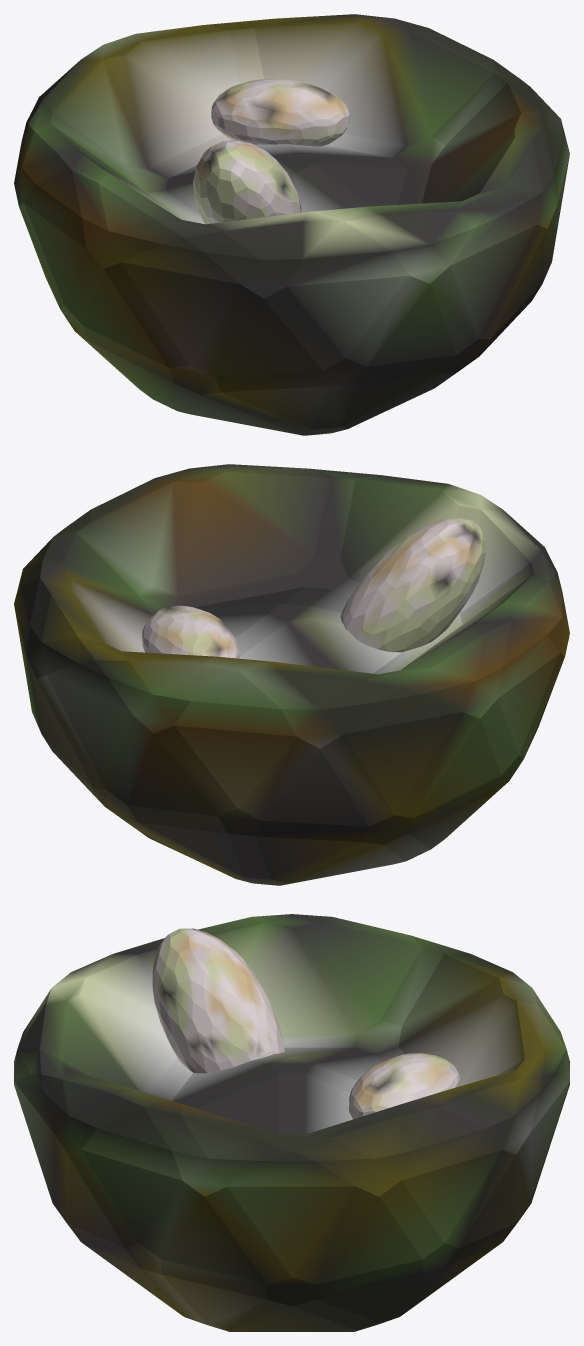
Rendered from nest.gltf.
3 views of the same model, one above another, from view 1: azimuth 30°, elevation 25°; view 2: azimuth 150°, elevation 25°; view 3: azimuth 270°, elevation 25° (orthographic).
Visible parts, largest first — view 1: Icosphere; view 2: Icosphere; view 3: Icosphere.
Boxes of the visible parts, <box> form: Icosphere: <box>14,14,569,435</box>; Icosphere: <box>14,464,569,885</box>; Icosphere: <box>14,914,569,1331</box>.
Bounding box in the file's own units: 1.89 × 1.25 × 1.93.
